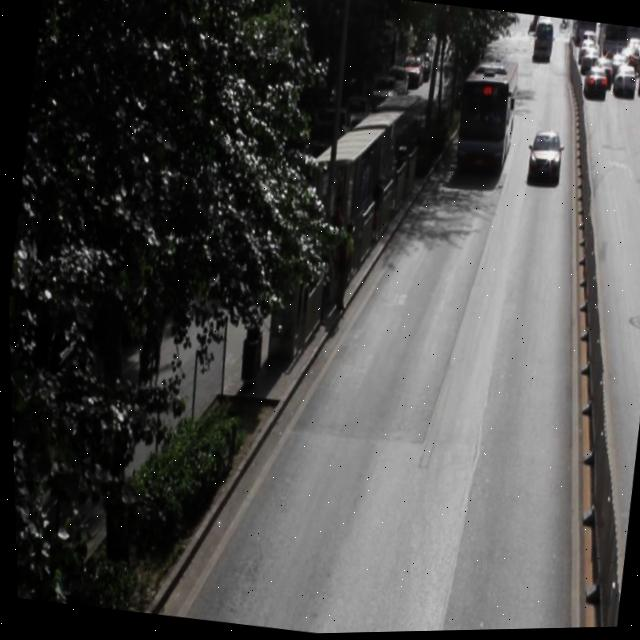car: (524, 129, 563, 181)
van: (449, 52, 521, 173)
